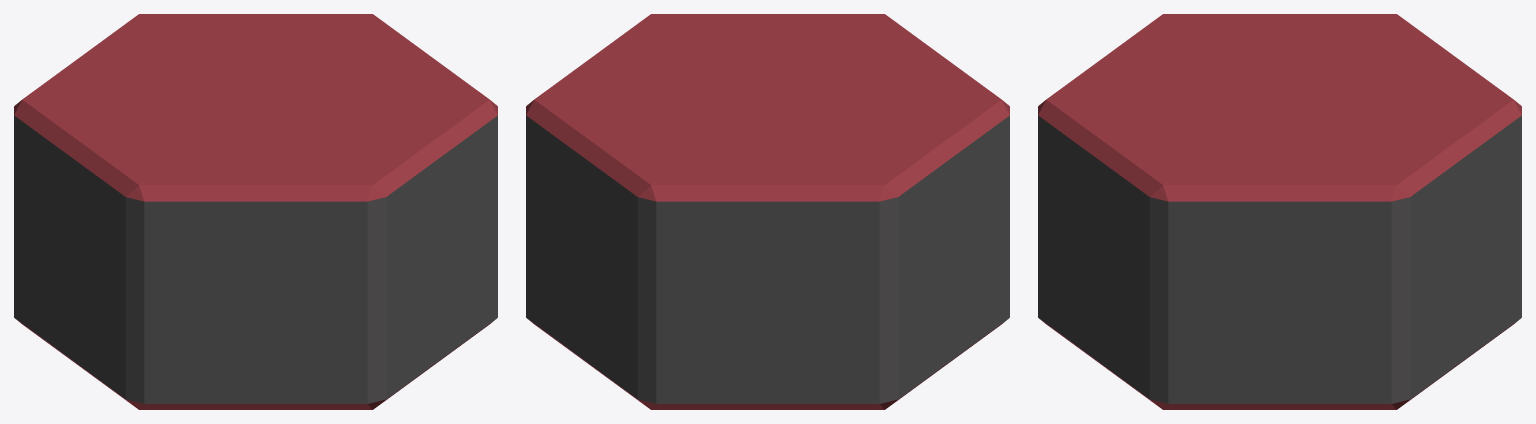
File: BaseHex_Red.fbx
3 views of the same model, side by side, from view 1: azimuth 30°, elevation 25°; view 2: azimuth 150°, elevation 25°; view 3: azimuth 270°, elevation 25° (orthographic).
Visible parts, largest first — view 1: 06.Red; view 2: 06.Red; view 3: 06.Red.
Part boxes in pixels (x1,y1,x2,y2): 06.Red: [14, 14, 497, 409]; 06.Red: [526, 14, 1009, 409]; 06.Red: [1038, 14, 1521, 409].
Size of the model in its own units: 173 by 100 by 195.
1 material, 1 textured.
